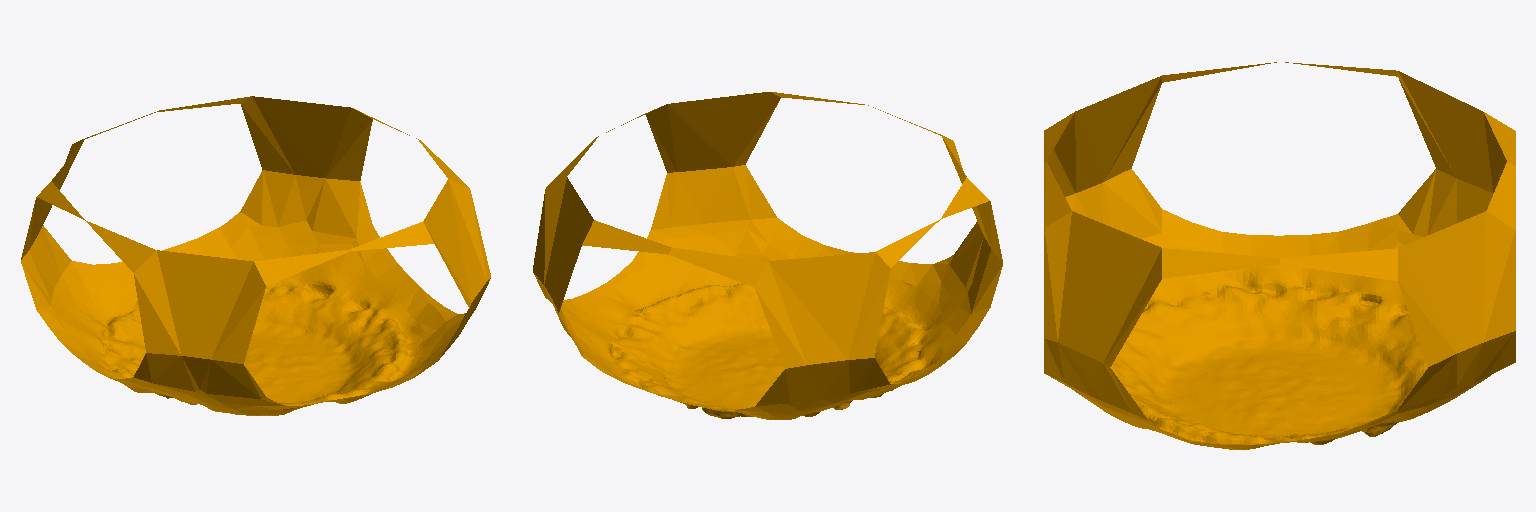
robot.urdf — 029_plate:
<?xml version="1.0"?>
<robot name="029_plate">
  <link name="base_link">
    <inertial>
      <origin xyz="0.026887 0.000547 0.104063" rpy="0 0 0" />
      <mass value="2.000000" />
      <inertia ixx="0.01933448" ixy="0.00037132" ixz="0.00008083"
               iyy="0.01928768" iyz="-0.00006978" izz="0.02975781" />
    </inertial>
    <visual>
      <geometry><mesh filename="029_plate.stl" scale="1.0 1.0 1.0" /></geometry>
    </visual>
    <collision>
      <geometry><mesh filename="029_plate_col.obj" scale="1.0 1.0 1.0" /></geometry>
    </collision>
    <contact>
      <lateral_friction value="1.0"/>
    </contact>
  </link>
</robot>

--- Render facts (derived) ---
3 views of the same robot in one strip: view 1: azimuth 30°, elevation 25°; view 2: azimuth 150°, elevation 25°; view 3: azimuth 270°, elevation 25° (orthographic).
Model 029_plate with 1 links and 0 joints (none), rooted at base_link, posed all joints at 0.
Links seen in each view (by area): view 1: base_link; view 2: base_link; view 3: base_link.
Boxes of the visible links, x1,y1,x2,y2 form: base_link: [21, 96, 490, 415]; base_link: [533, 92, 1002, 419]; base_link: [1044, 62, 1515, 449].
Size in the robot's own frame: 0.331 by 0.331 by 0.1803 metres.
1 mesh visuals loaded from 1 distinct referenced files (1 binary STL).
